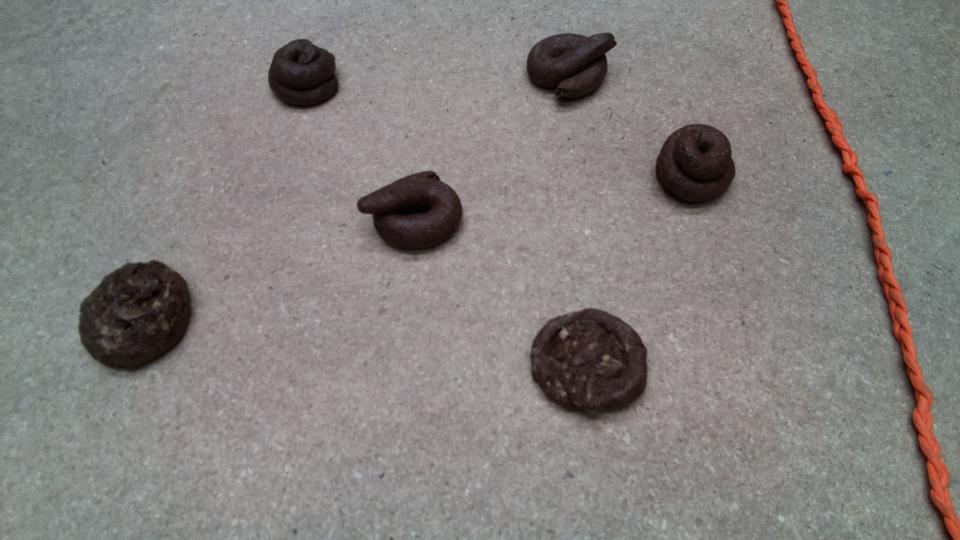poop: (75, 255, 198, 379), (526, 305, 652, 423), (355, 169, 466, 258), (652, 119, 739, 210), (523, 28, 618, 109), (263, 35, 341, 115)
rope: (774, 1, 959, 539)
